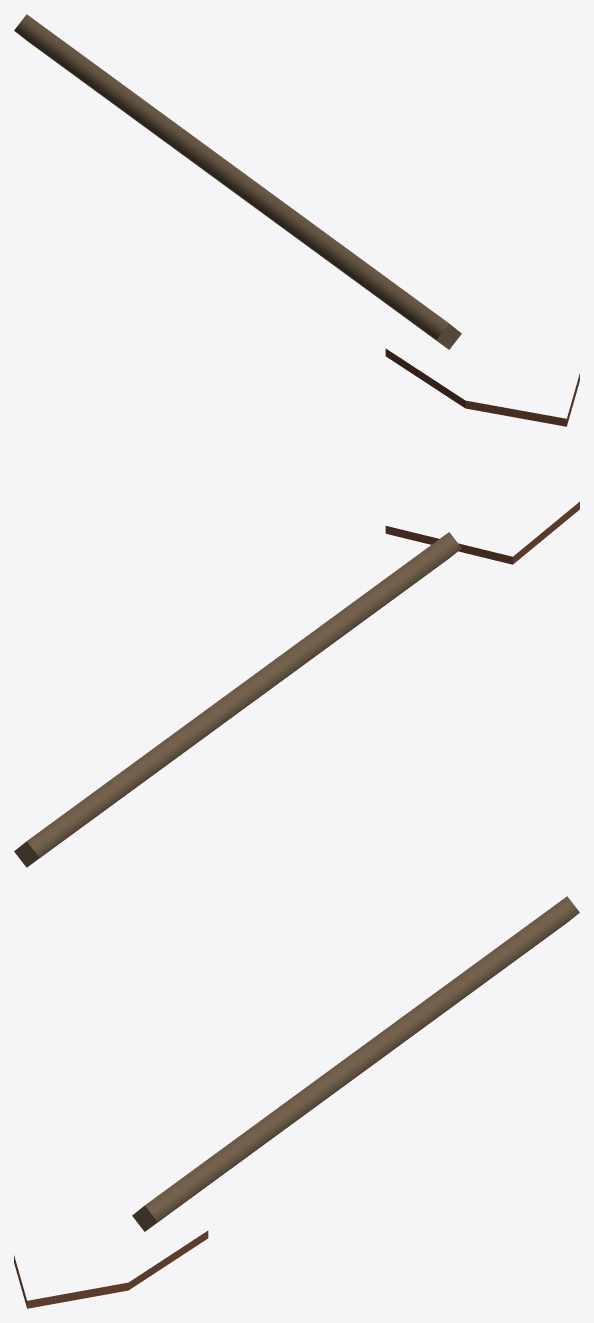
3 views of the same model, one above another, from view 1: azimuth 30°, elevation 25°; view 2: azimuth 150°, elevation 25°; view 3: azimuth 330°, elevation 25° (orthographic).
Parts seen in each view (by area): view 1: raider_tool_shovel; view 2: raider_tool_shovel; view 3: raider_tool_shovel.
Part boxes in pixels (box(x1,y1,x2,y2)): raider_tool_shovel: box(14, 14, 579, 426); raider_tool_shovel: box(14, 501, 579, 867); raider_tool_shovel: box(14, 896, 579, 1308).
Bounding box in the file's own units: 0.2 × 0.04 × 1.47.
